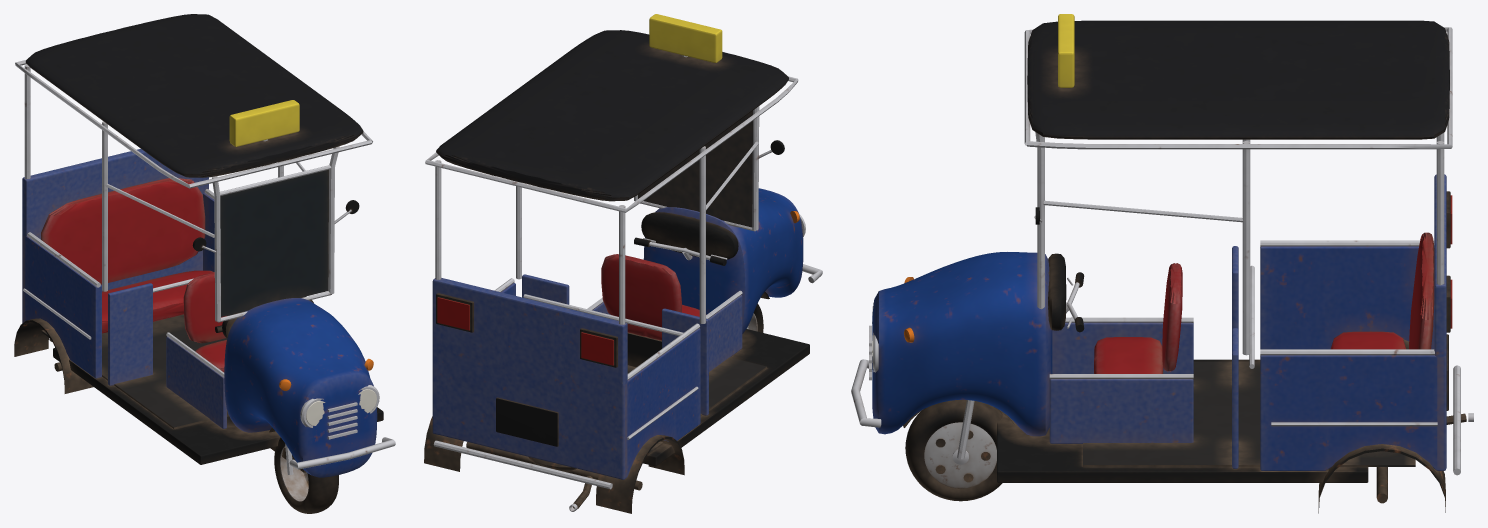
Rendered from TukTukV2.fbx.
3 views of the same model, side by side, from view 1: azimuth 30°, elevation 25°; view 2: azimuth 150°, elevation 25°; view 3: azimuth 270°, elevation 25° (orthographic). The views are drawn at different scales.
Visible parts, largest first — view 1: TukBody, TukInterior, TukGlass, TukWheel; view 2: TukBody, TukInterior, TukGlass; view 3: TukBody, TukInterior, TukWheel.
Boxes of the visible parts, bbox=[...] form: TukBody: bbox=[14, 14, 395, 477]; TukInterior: bbox=[41, 178, 313, 428]; TukGlass: bbox=[220, 169, 328, 316]; TukWheel: bbox=[274, 437, 338, 513]; TukBody: bbox=[424, 14, 822, 513]; TukInterior: bbox=[523, 212, 766, 455]; TukGlass: bbox=[638, 111, 752, 227]; TukBody: bbox=[851, 14, 1473, 513]; TukInterior: bbox=[1048, 232, 1434, 466]; TukWheel: bbox=[905, 400, 1002, 501].
Size of the model in its own units: 146 by 259 by 314.
4 materials, 4 textured.
